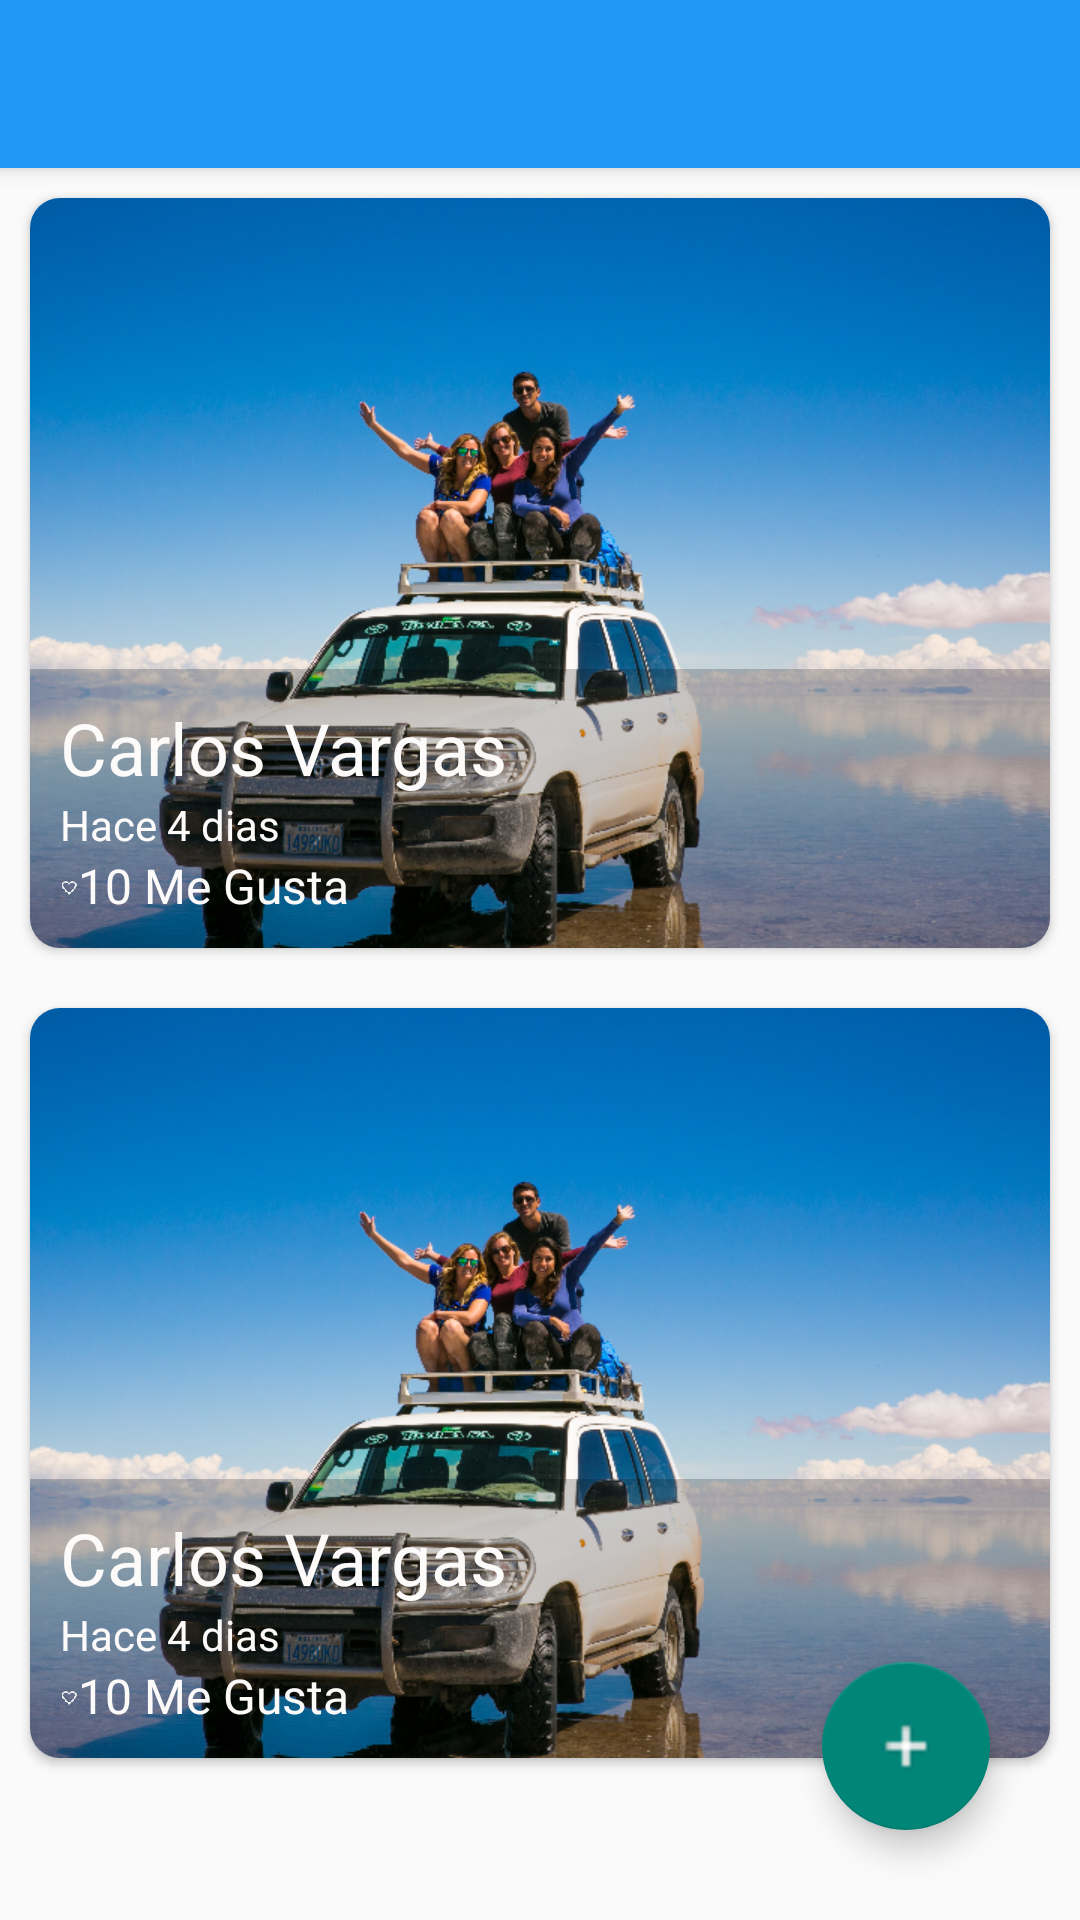

Point at icon controls on the screen. Image size 1080w x 1920h, points as (x=x, y=y).
plus: (x=906, y=1746)
